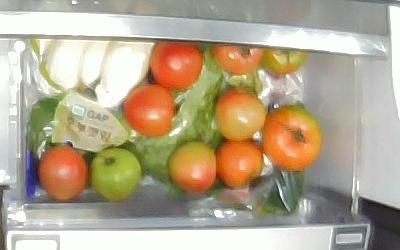tomato: (262, 105, 323, 168), (123, 84, 174, 137), (150, 41, 204, 90), (91, 147, 140, 200), (213, 91, 264, 141), (38, 148, 87, 200), (166, 143, 216, 191), (216, 142, 263, 189), (211, 43, 263, 74), (261, 47, 306, 77)
